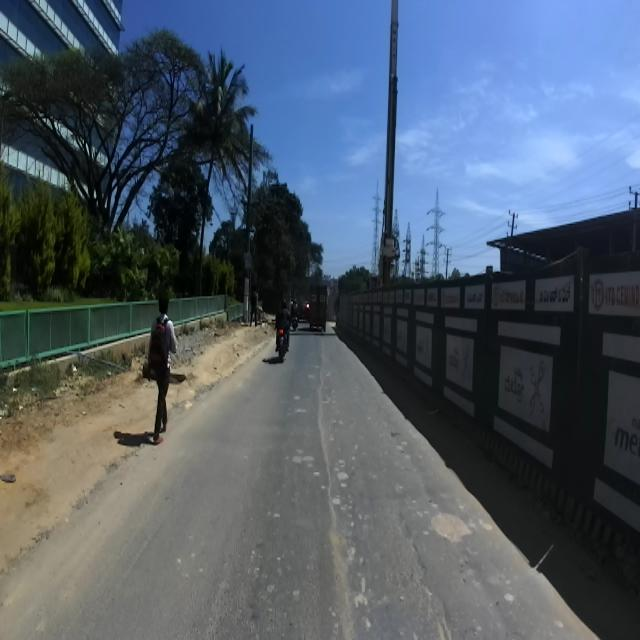barrier ahead at: (339, 271, 639, 535)
person ahead at: (140, 273, 180, 442)
